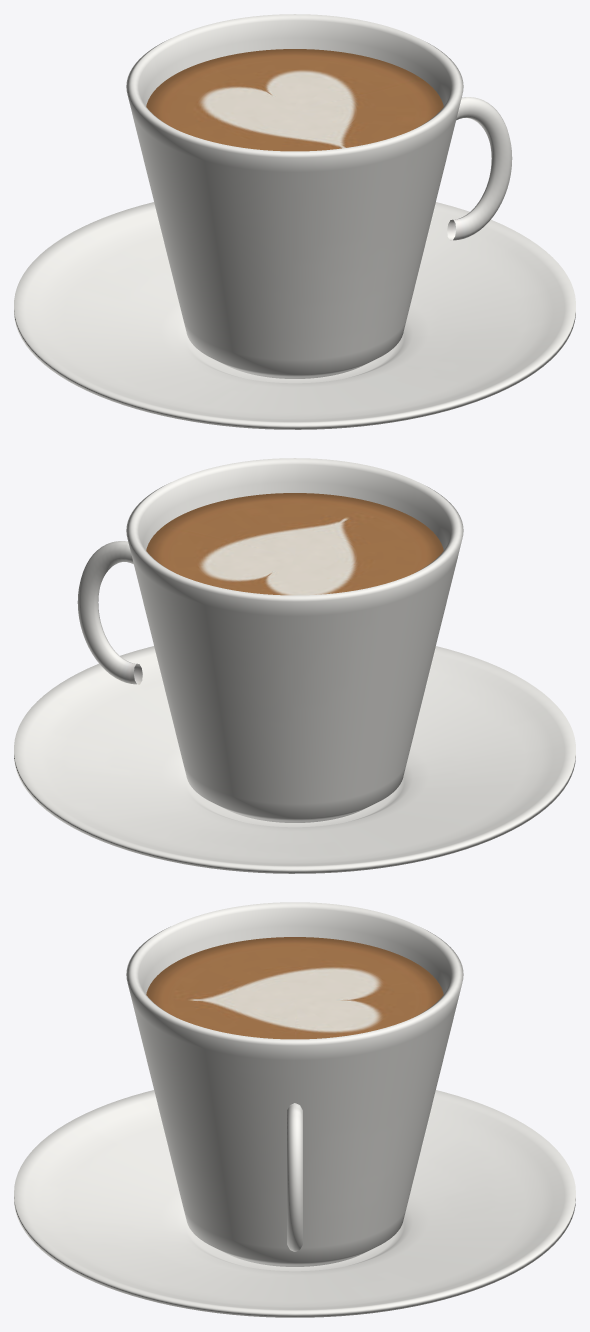
The model's file is latte.glb.
The picture shows the model from 3 angles, top to bottom: view 1: azimuth 30°, elevation 25°; view 2: azimuth 150°, elevation 25°; view 3: azimuth 270°, elevation 25°; orthographic projection.
Parts seen in each view (by area): view 1: ceramic, satin; view 2: ceramic, satin; view 3: ceramic, satin.
Boxes of the visible parts, x1,y1,x2,y2 form: ceramic: (14,14,575,429); satin: (146,49,443,151); ceramic: (14,458,575,873); satin: (146,493,443,595); ceramic: (14,902,575,1317); satin: (146,937,443,1039).
Size of the model in its own units: 0.16 by 0.0852 by 0.16.
2 materials, 2 textured.
